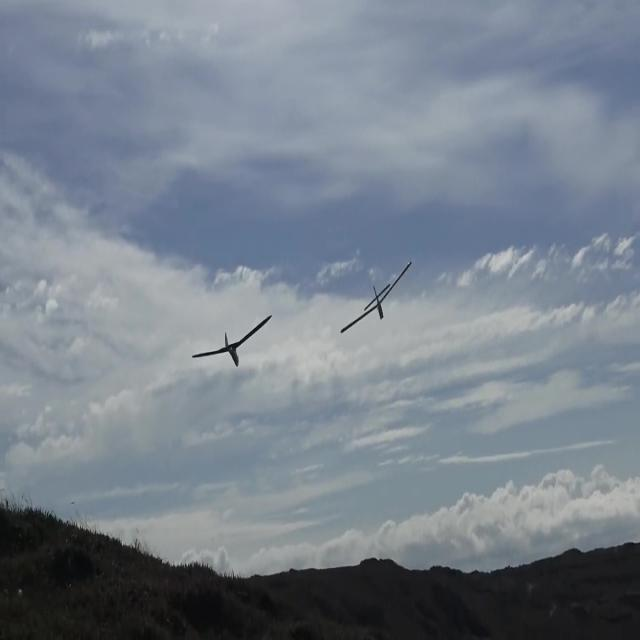iha: (224, 313, 241, 369), (375, 296, 377, 300)
